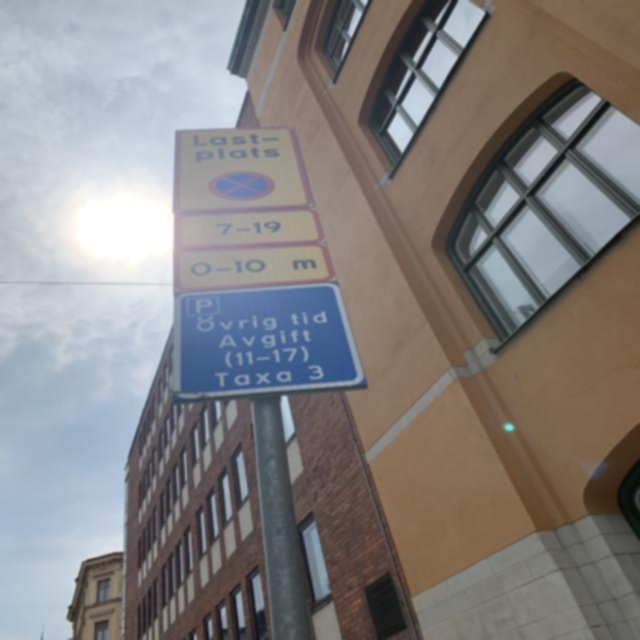lastplats: (168, 125, 316, 212)
